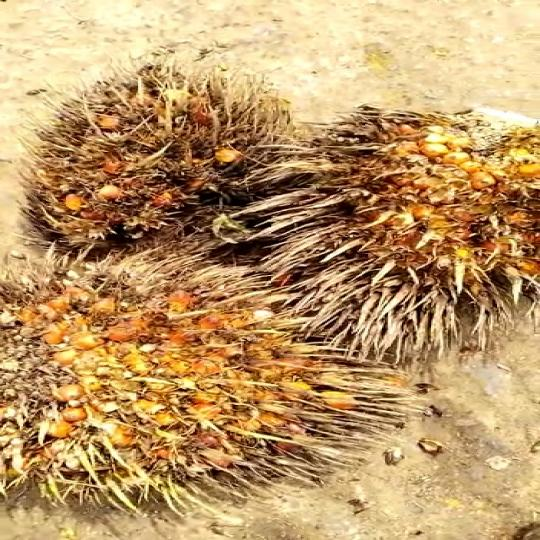terlalu masak: (230, 97, 540, 335), (24, 58, 284, 260)
